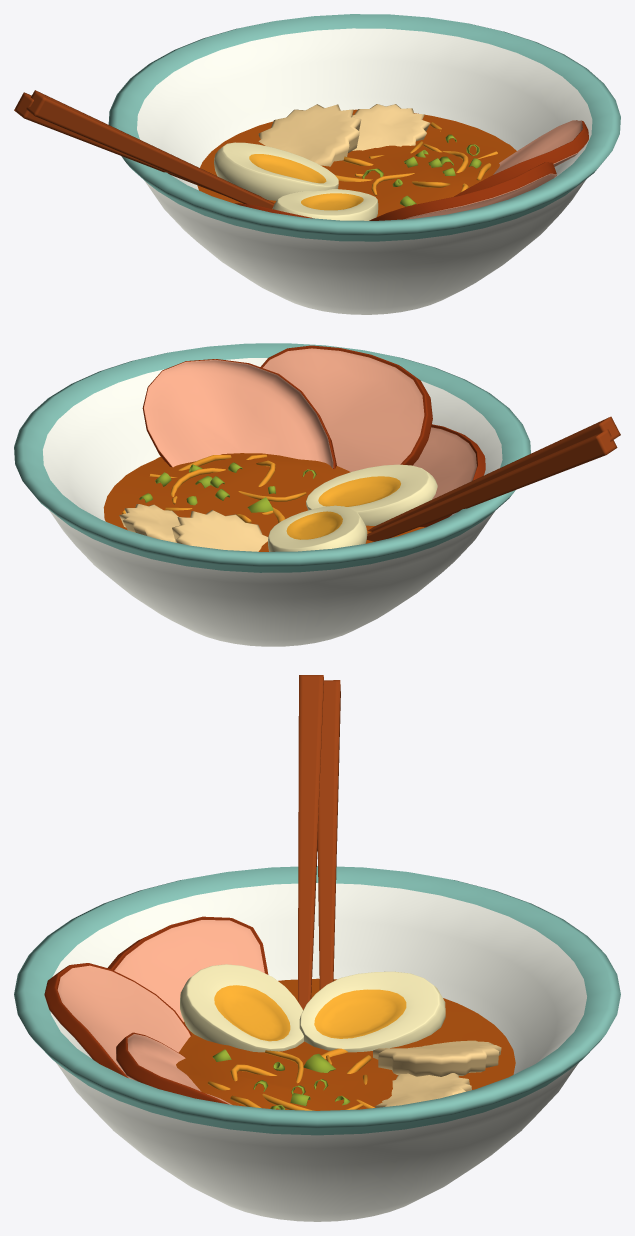
The model's file is RamenBowl.gltf.
3 views of the same model, one above another, from view 1: azimuth 30°, elevation 25°; view 2: azimuth 150°, elevation 25°; view 3: azimuth 270°, elevation 25° (orthographic). The views are drawn at different scales.
Visible parts, largest first — view 1: Ramen Bowl; view 2: Ramen Bowl; view 3: Ramen Bowl.
Part boxes in pixels (bbox=[...]): Ramen Bowl: bbox=[14, 14, 620, 314]; Ramen Bowl: bbox=[14, 343, 620, 646]; Ramen Bowl: bbox=[14, 675, 620, 1221].
Bounding box in the file's own units: 2.44 × 1.11 × 1.93.
